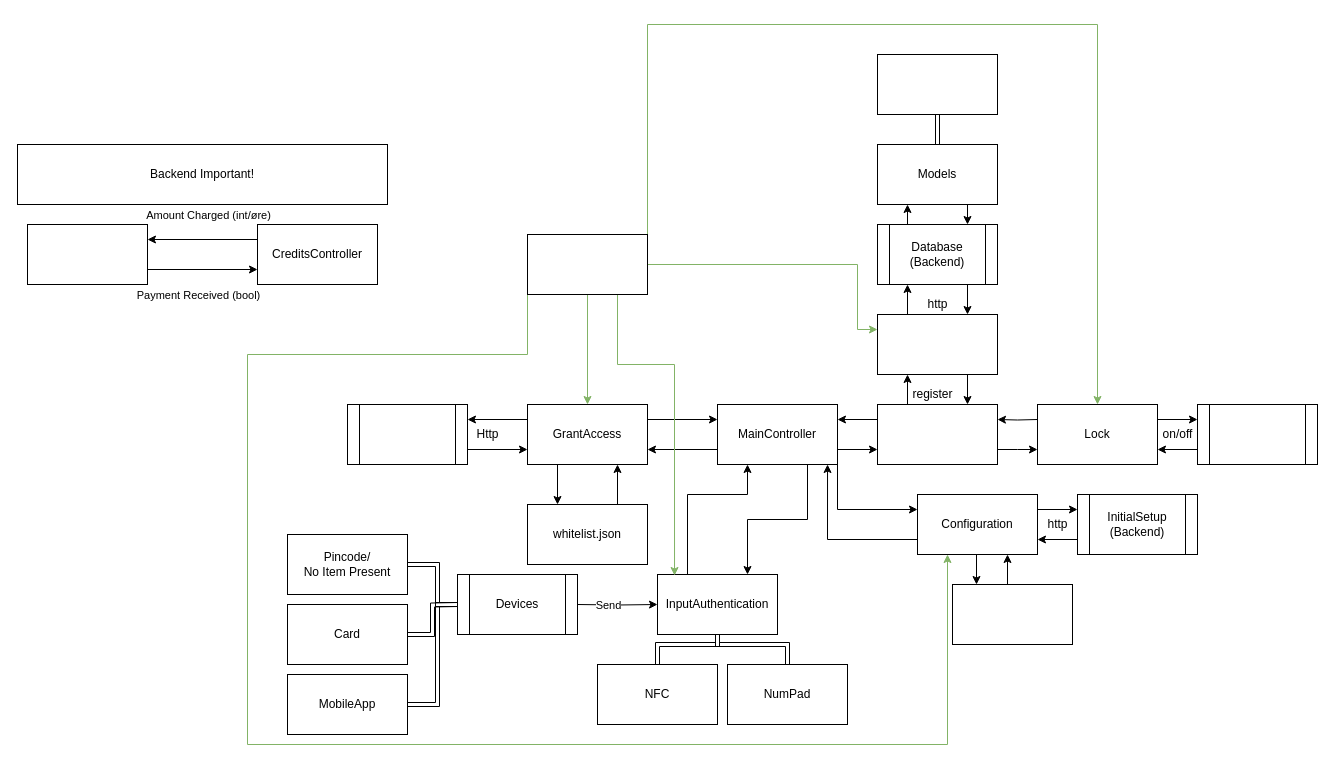
Some shapes in this 1335 by 770 pixel diagram are drawn without their labels. Each missing label, with the box of its shape:
AccessGranter (Backend): (346, 404, 468, 464)
config.json: (952, 584, 1072, 644)
Log: (876, 314, 998, 374)
Payment: (26, 224, 148, 284)
PowerSwitch: (1196, 404, 1318, 464)
Scheduler: (876, 404, 998, 464)
SecurityInternalLibrary: (526, 234, 648, 294)
WashingMachine: (876, 54, 998, 114)
